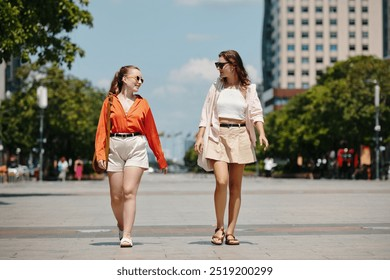Person: (90, 60, 168, 246), (194, 48, 264, 247)
